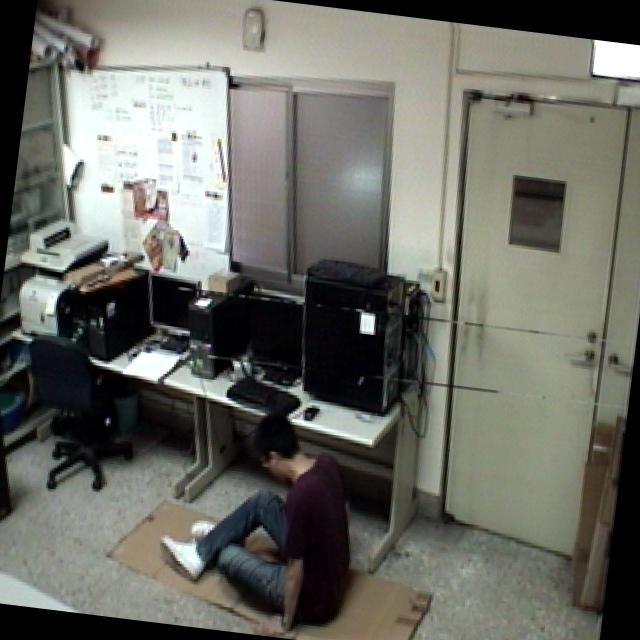sit: (145, 393, 380, 640)
